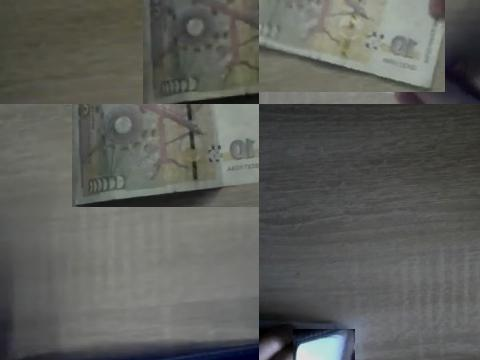10leva: (73, 104, 259, 207), (259, 0, 445, 92)
20leva: (294, 329, 355, 360)
